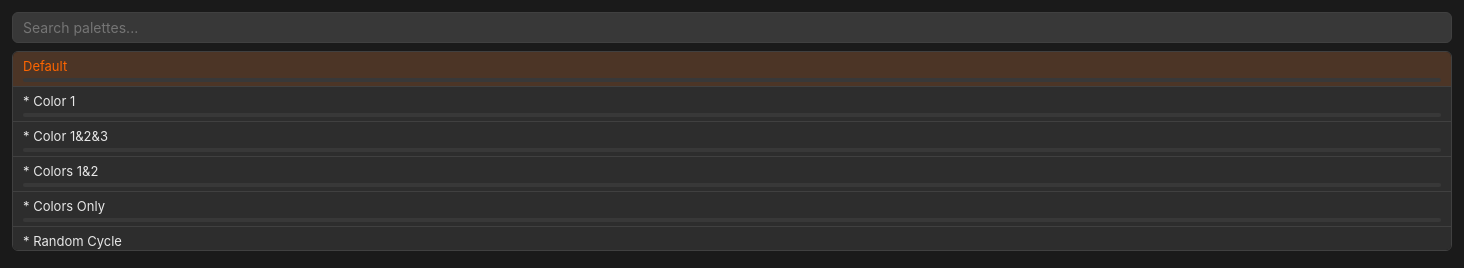
Test: PaletteSelector › filters palettes by search
Step 1. Type "rain" into the field with placeholder "Search palettes..." → {"x": 732, "y": 28}, box [12,12,1452,43]
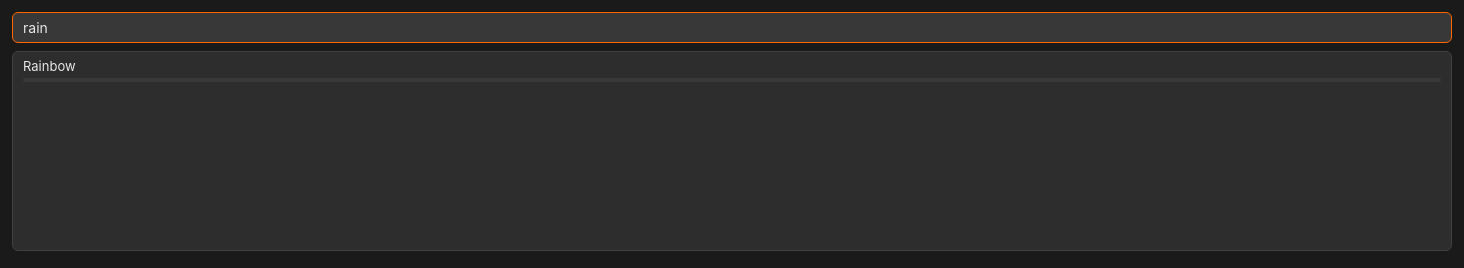
Now the button "Rainbow" is shown, box [13,52,1451,86]
Now the button "Default" is gone
